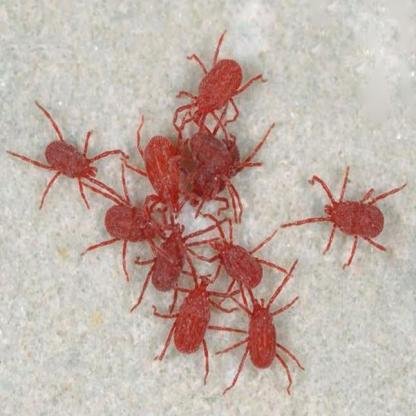other: (23, 24, 398, 377)
